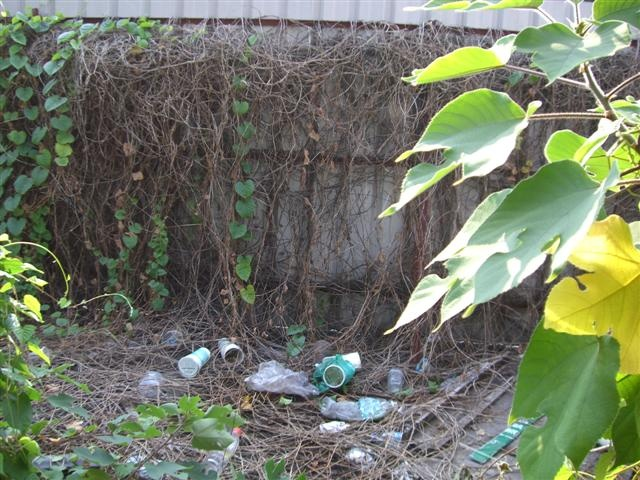bottle: (201, 423, 243, 477), (177, 346, 212, 379), (216, 337, 246, 368), (386, 366, 406, 394)
plastic_bag: (251, 364, 310, 395)
